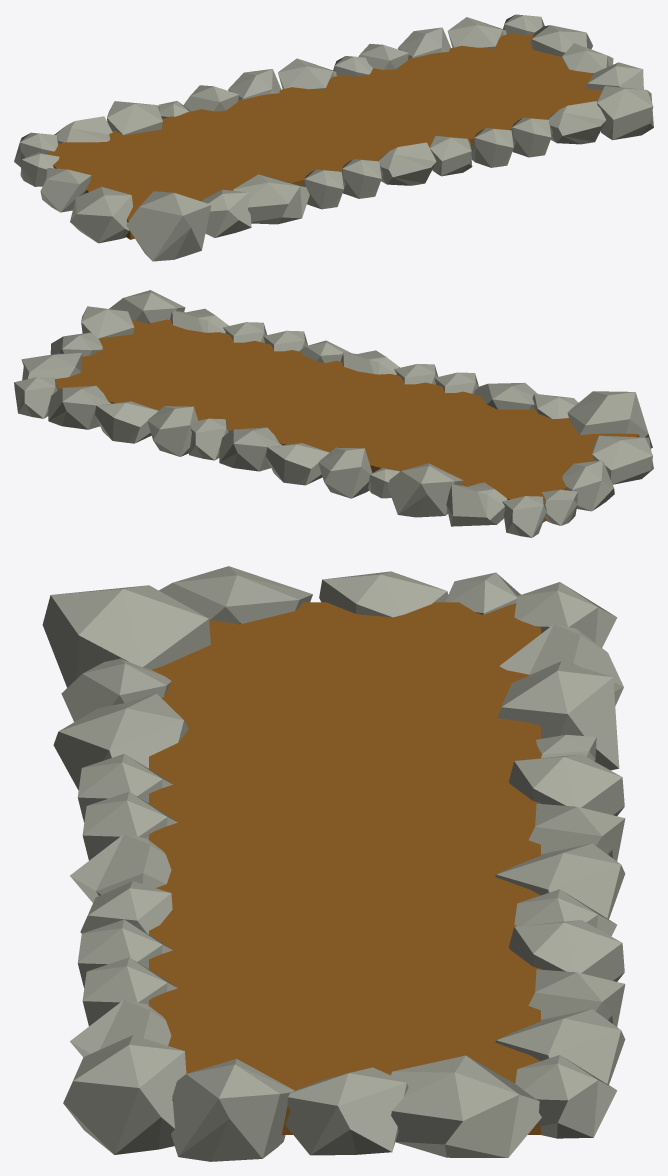
The model's file is ladang.fbx.
3 renders of one model, top to bottom at view 1: azimuth 30°, elevation 25°; view 2: azimuth 150°, elevation 25°; view 3: azimuth 270°, elevation 25°, orthographic. The views are drawn at different scales.
Visible parts, largest first — view 1: ladang kiri, ladang kanan, ladang tengah.002; view 2: ladang kiri, ladang kanan, ladang tengah.002; view 3: ladang kanan, ladang kiri, ladang tengah.002.
Part boxes in pixels (left/top/right/bottom): ladang kiri: left=14, top=101, right=309, bottom=261; ladang kanan: left=358, top=14, right=653, bottom=167; ladang tengah.002: left=183, top=56, right=472, bottom=209; ladang kiri: left=368, top=382, right=653, bottom=537; ladang kanan: left=14, top=290, right=307, bottom=456; ladang tengah.002: left=188, top=340, right=478, bottom=498; ladang kanan: left=63, top=919, right=625, bottom=1161; ladang kiri: left=42, top=566, right=623, bottom=790; ladang tengah.002: left=70, top=754, right=625, bottom=936.
Bounding box in the file's own units: 337 × 30.62 × 149.
